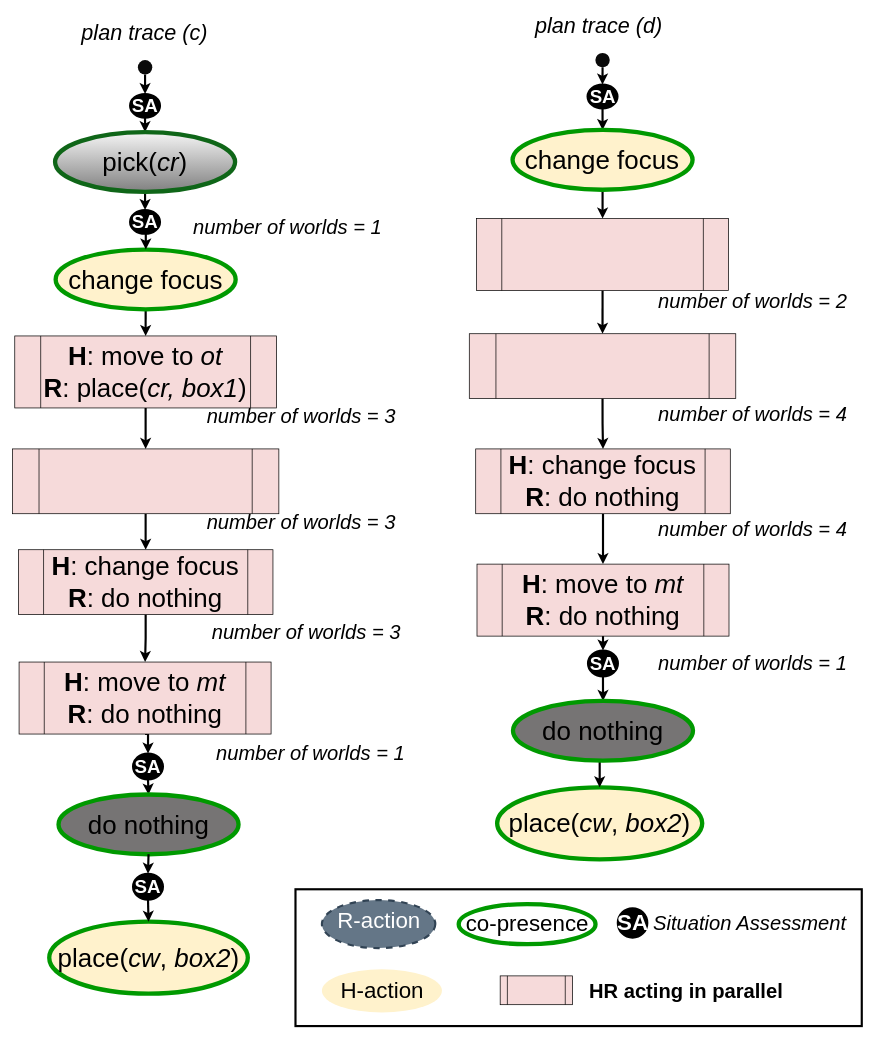
The diagram is 894 pixels wide and 1040 high, and some of its shapes have lost their labels. Here are the shapes that lost their labels. From the top down, the box of each, then its label:
(476, 218, 729, 291): H : move to ot R : pick( cr )
(469, 333, 736, 399): H : pick( cw ) R : place( cr , box1 )
(12, 448, 279, 514): H : pick( cw ) R : do nothing
